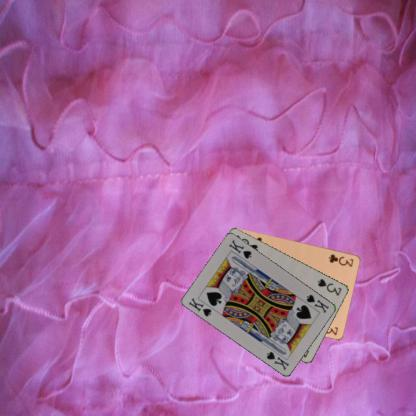3c: (326, 251, 355, 268)
3s: (315, 276, 343, 297)
Ks: (186, 295, 213, 318), (304, 292, 330, 314)
